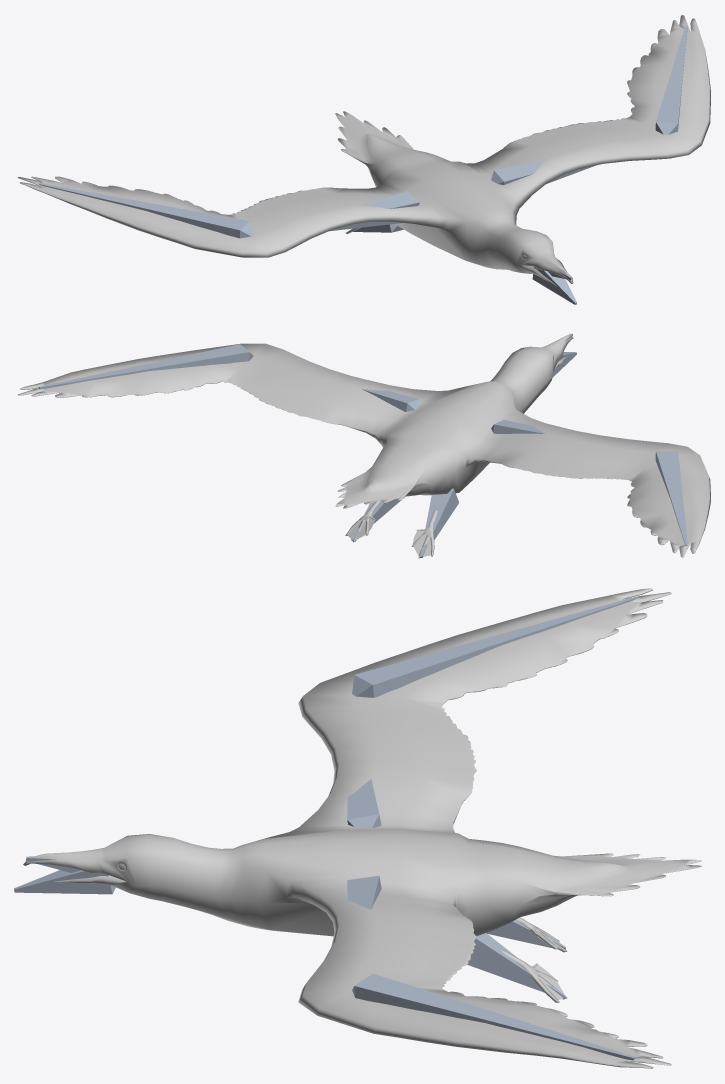
Rendered from gannet rig2.obj.
3 renders of one model, top to bottom at view 1: azimuth 30°, elevation 25°; view 2: azimuth 150°, elevation 25°; view 3: azimuth 270°, elevation 25°, orthographic. The views are drawn at different scales.
Parts seen in each view (by area): view 1: Gannet, Gannet_Rwing_tip, Gannet_Lwing_tip, Gannet_Rwing_mid, Gannet_Lwing_mid, Gannet_jaw; view 2: Gannet, Gannet_Lwing_tip, Gannet_Rwing_tip, Gannet_Rleg, Gannet_Lwing_mid, Gannet_Rwing_mid, Gannet_Lleg; view 3: Gannet, Gannet_Lwing_tip, Gannet_Rwing_tip, Gannet_Lleg, Gannet_jaw, Gannet_Rwing_mid, Gannet_Lwing_mid, Gannet_Rleg.
Part boxes in pixels (<box>): Gannet: <box>17,15,710,286</box>; Gannet_Rwing_tip: <box>39,183,253,238</box>; Gannet_Lwing_tip: <box>655,25,687,134</box>; Gannet_Rwing_mid: <box>329,191,419,231</box>; Gannet_Lwing_mid: <box>491,160,595,184</box>; Gannet_jaw: <box>532,267,576,304</box>; Gannet: <box>18,335,710,558</box>; Gannet_Lwing_tip: <box>39,344,253,389</box>; Gannet_Rwing_tip: <box>655,451,687,545</box>; Gannet_Rleg: <box>420,488,459,557</box>; Gannet_Lwing_mid: <box>361,389,419,411</box>; Gannet_Rwing_mid: <box>491,419,544,433</box>; Gannet_Lleg: <box>351,497,404,541</box>; Gannet: <box>23,588,701,1068</box>; Gannet_Lwing_tip: <box>352,973,635,1060</box>; Gannet_Rwing_tip: <box>352,597,635,697</box>; Gannet_Lleg: <box>467,933,565,999</box>; Gannet_jaw: <box>14,870,115,894</box>; Gannet_Rwing_mid: <box>347,779,381,828</box>; Gannet_Lwing_mid: <box>347,875,381,909</box>; Gannet_Rleg: <box>486,920,565,949</box>.
Size of the model in its own units: 27.56 by 3.93 by 16.81.
